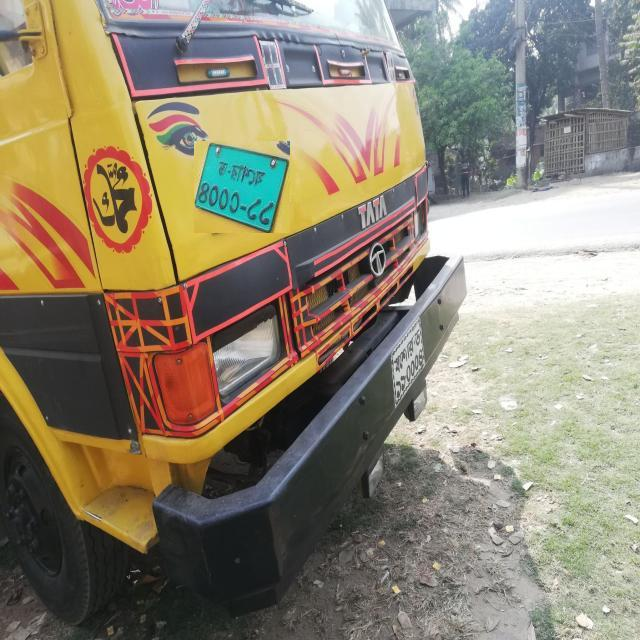numberplate: (194, 141, 290, 233), (389, 319, 426, 409)
